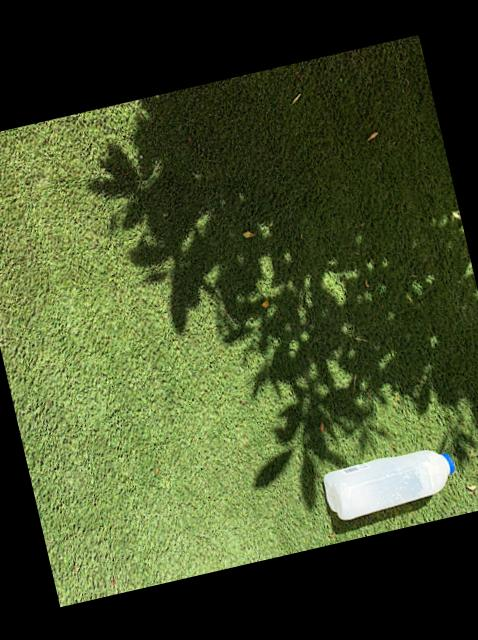plastic: (324, 448, 455, 517)
